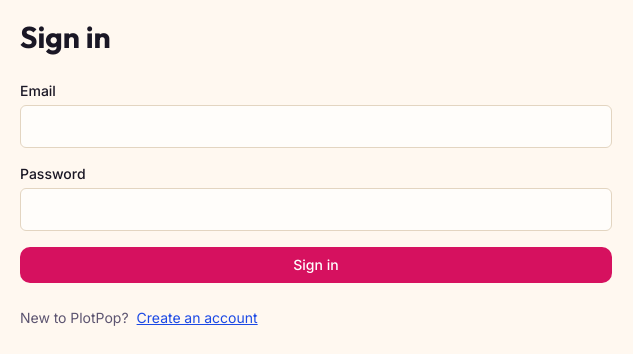
credential form › marks the email field invalid and asks the api for nothing when the address is malformed
This screenshot has width=633, height=354.
Type "not-an-address" into the field labelled "Email".
click(316, 126); type("not-an-address")  # box [20,104,612,148]
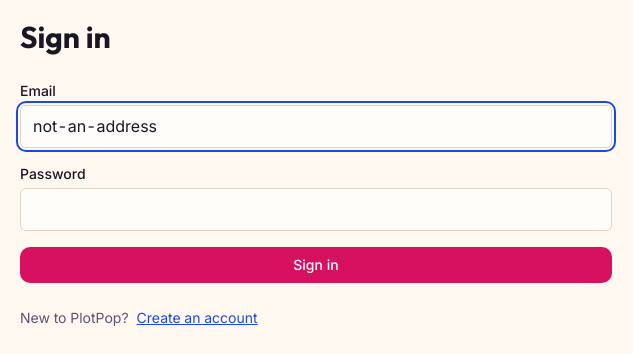
Type "a-long-password" into the password field labelled "Password".
click(316, 210); type("a-long-password")  # box [20,188,612,231]
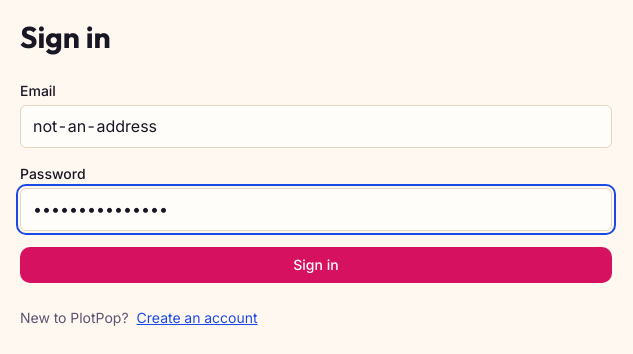
Click the button "Sign in".
click(316, 265)  # box [20,247,612,283]
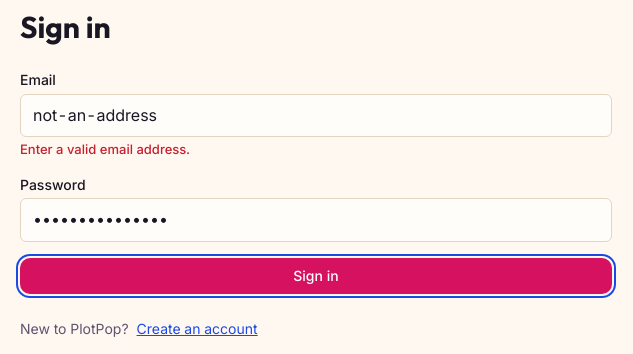
Expected: the text "Enter a valid email address." is shown, [20,141,190,157]
